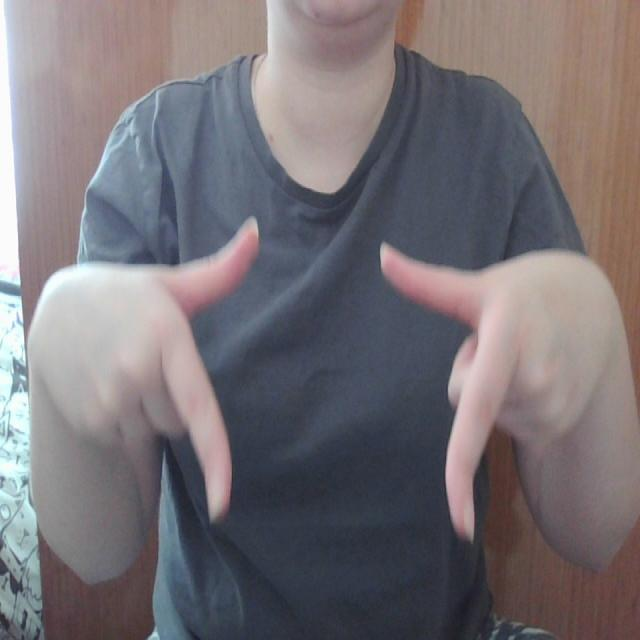Nerede: (155, 207, 520, 550)
